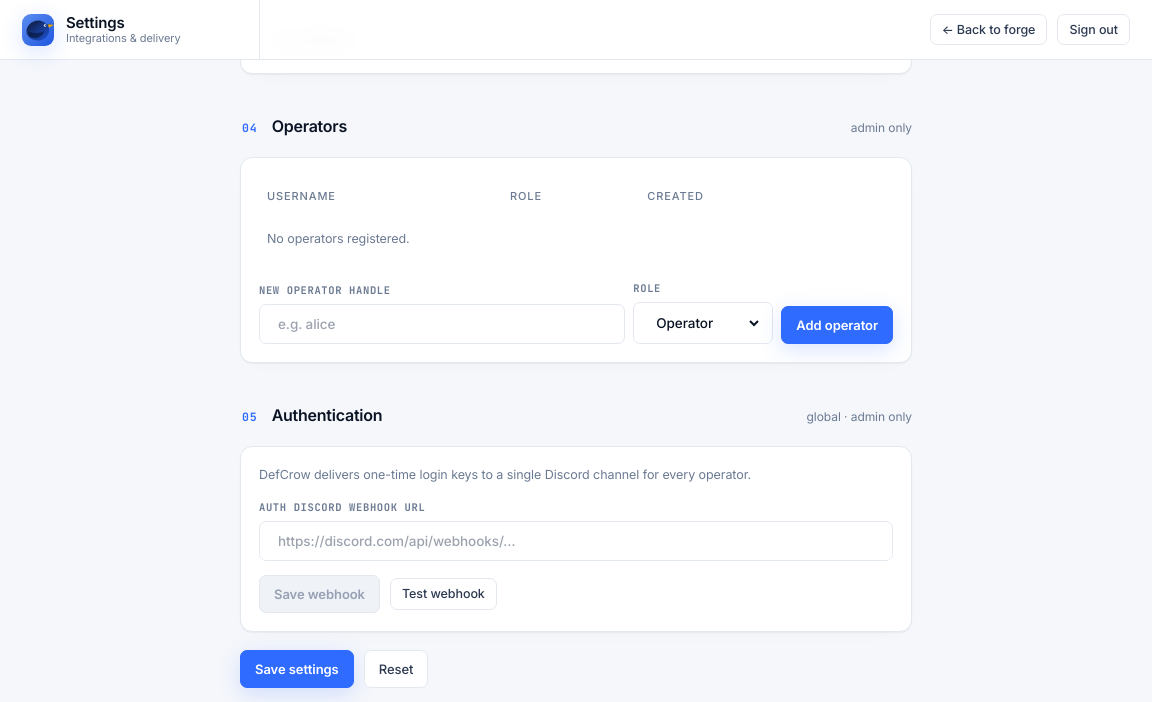
SettingsPage admin sections › admin can save webhook then test it
(page scrolled)
Type "https://discord.com/api/webhooks/9/x" into the field with test id "auth-webhook-input".
click(576, 541); type("https://discord.com/api/webhooks/9/x")  # box [270,522,882,560]
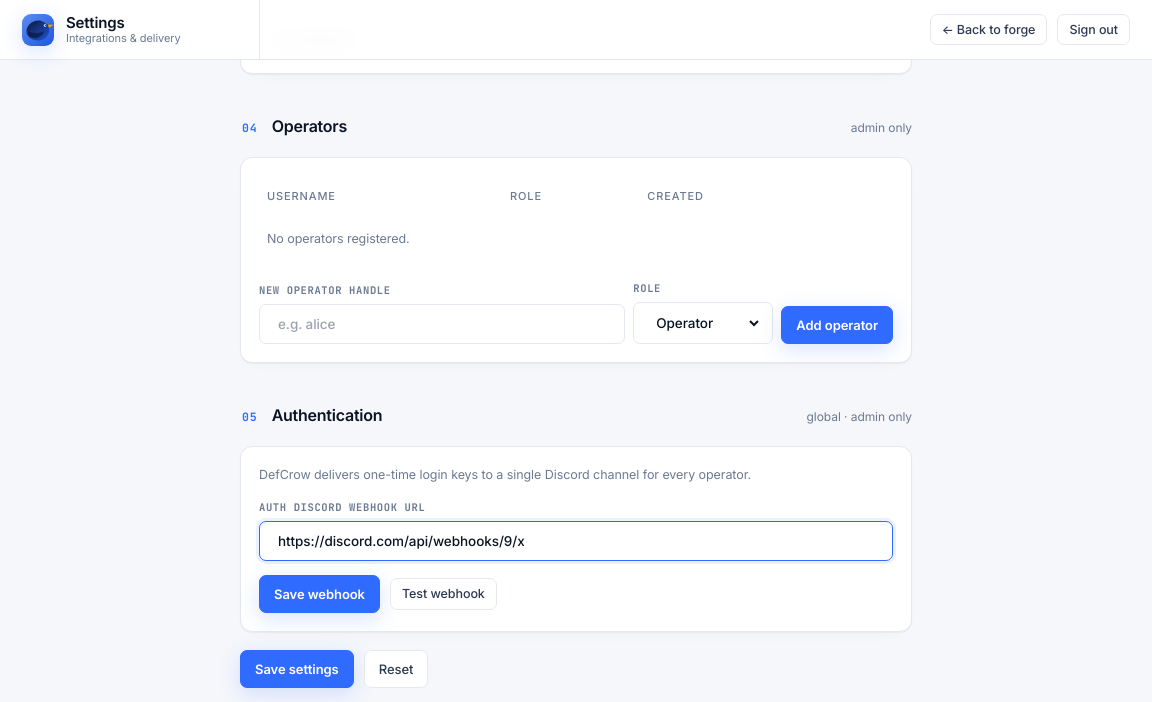
Click the button "Save webhook".
click(319, 594)  # box [259,575,380,613]
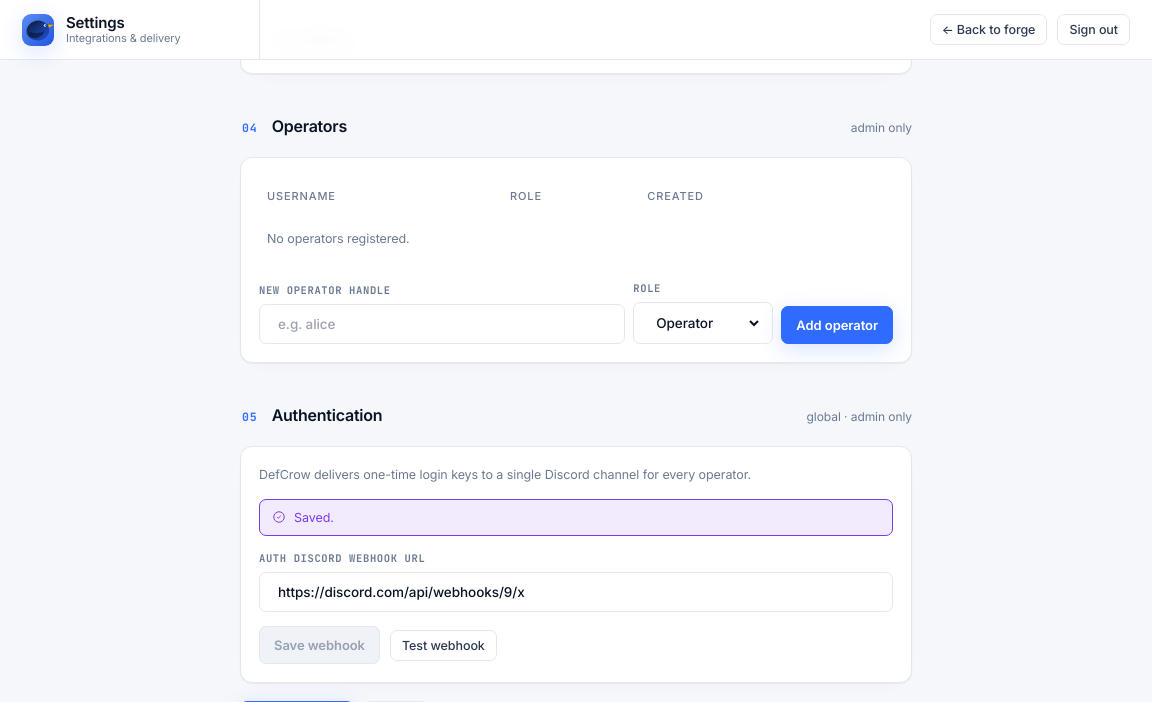
Click the button with test id "auth-webhook-test".
click(443, 645)  # box [390,630,497,661]
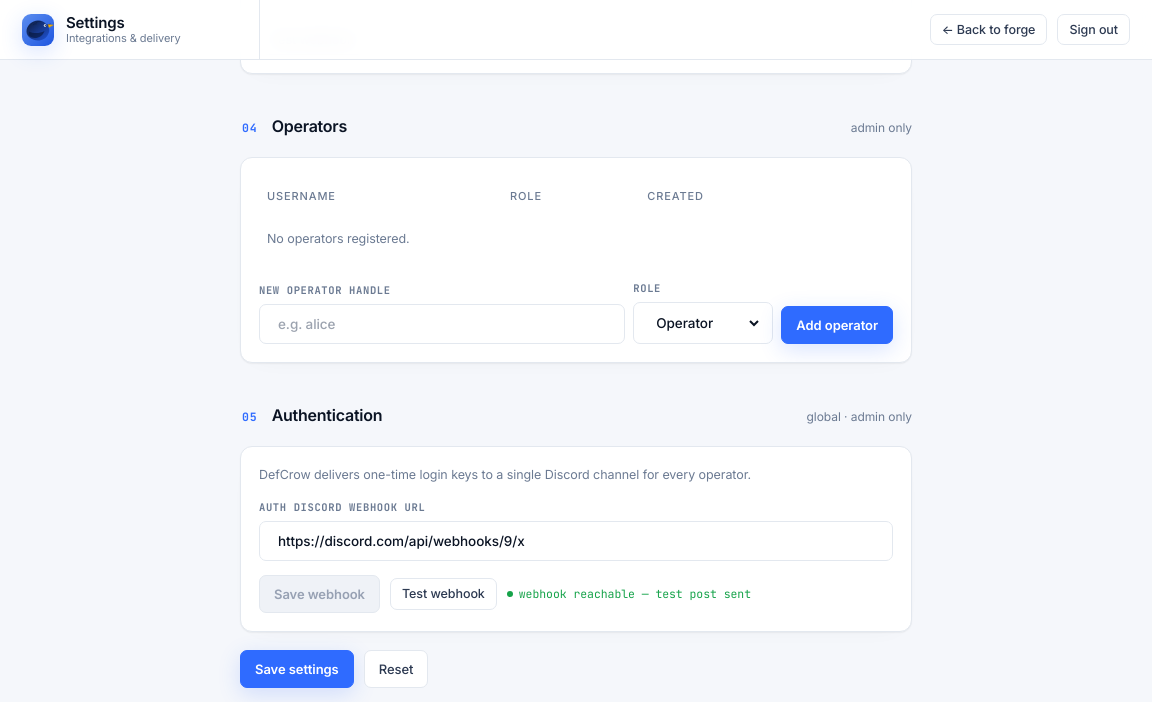
Now the text "webhook reachable — test post sent" is shown, box [507,585,751,603]
